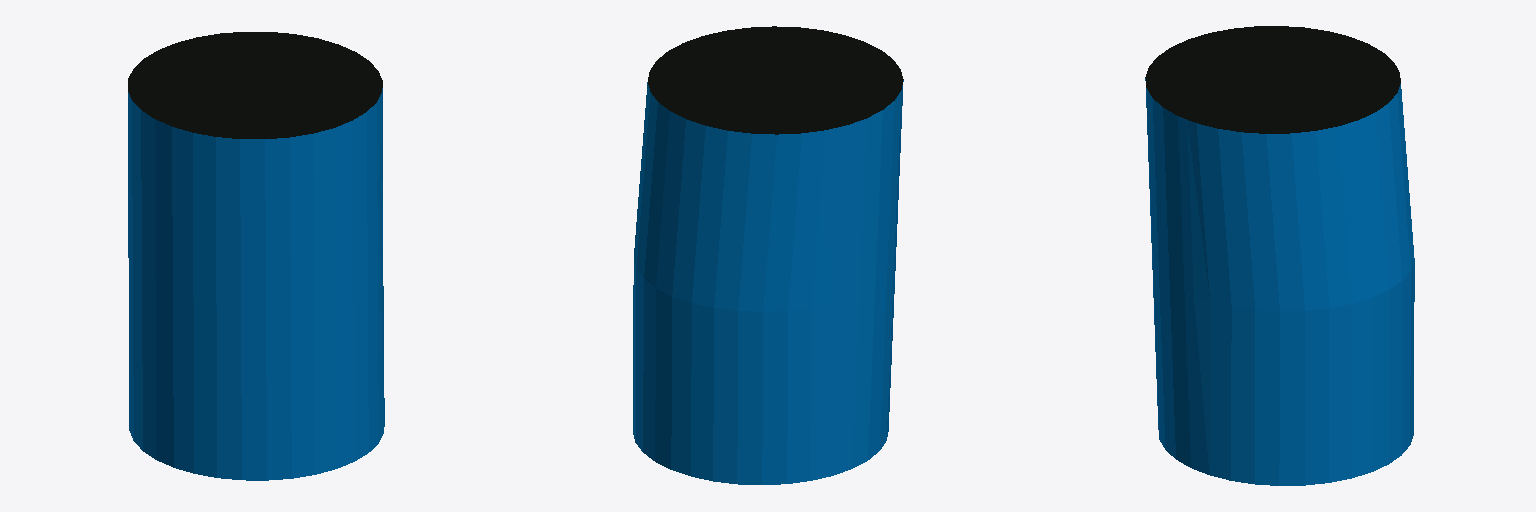
File: bochok.obj
3 renders of one model, left to right at view 1: azimuth 30°, elevation 25°; view 2: azimuth 150°, elevation 25°; view 3: azimuth 270°, elevation 25°, orthographic.
Visible parts, largest first — view 1: Цилиндр; view 2: Цилиндр; view 3: Цилиндр.
Part boxes in pixels (x1,y1,x2,y2): Цилиндр: (128, 32, 384, 480); Цилиндр: (633, 26, 903, 484); Цилиндр: (1145, 26, 1414, 485).
Bounding box in the file's own units: 2.07 × 3 × 2.1.